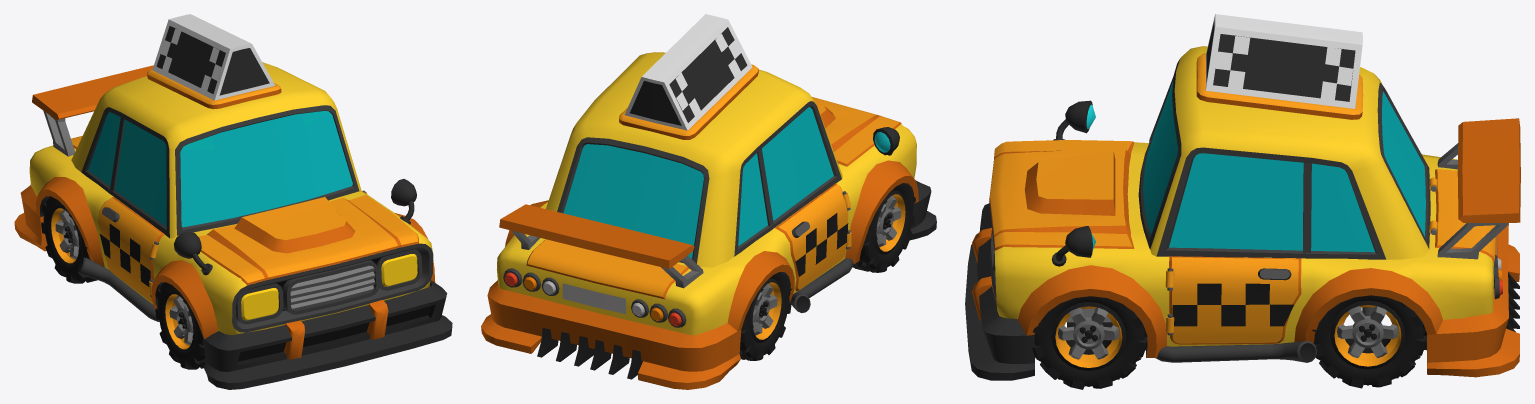
File: VEH12-B.fbx
The picture shows the model from 3 angles, left to right: view 1: azimuth 30°, elevation 25°; view 2: azimuth 150°, elevation 25°; view 3: azimuth 270°, elevation 25°; orthographic projection. The views are drawn at different scales.
Parts seen in each view (by area): view 1: VEH12_B, V12B_Wheel_FR, V12B_Wheel_BR; view 2: VEH12_B, V12B_Wheel_FR, V12B_Wheel_BR; view 3: VEH12_B, V12B_Wheel_FL, V12B_Wheel_BL.
Part boxes in pixels (box(x1,y1,x2,y2)): VEH12_B: box(14, 14, 452, 389); V12B_Wheel_FR: box(155, 282, 205, 369); V12B_Wheel_BR: box(41, 196, 97, 283); VEH12_B: box(481, 14, 936, 389); V12B_Wheel_FR: box(853, 183, 915, 272); V12B_Wheel_BR: box(739, 272, 792, 360); VEH12_B: box(965, 14, 1520, 380); V12B_Wheel_FL: box(1032, 296, 1147, 389); V12B_Wheel_BL: box(1312, 295, 1426, 388).
Bounding box in the file's own units: 256 × 249 × 411.
1 material, 1 textured.
